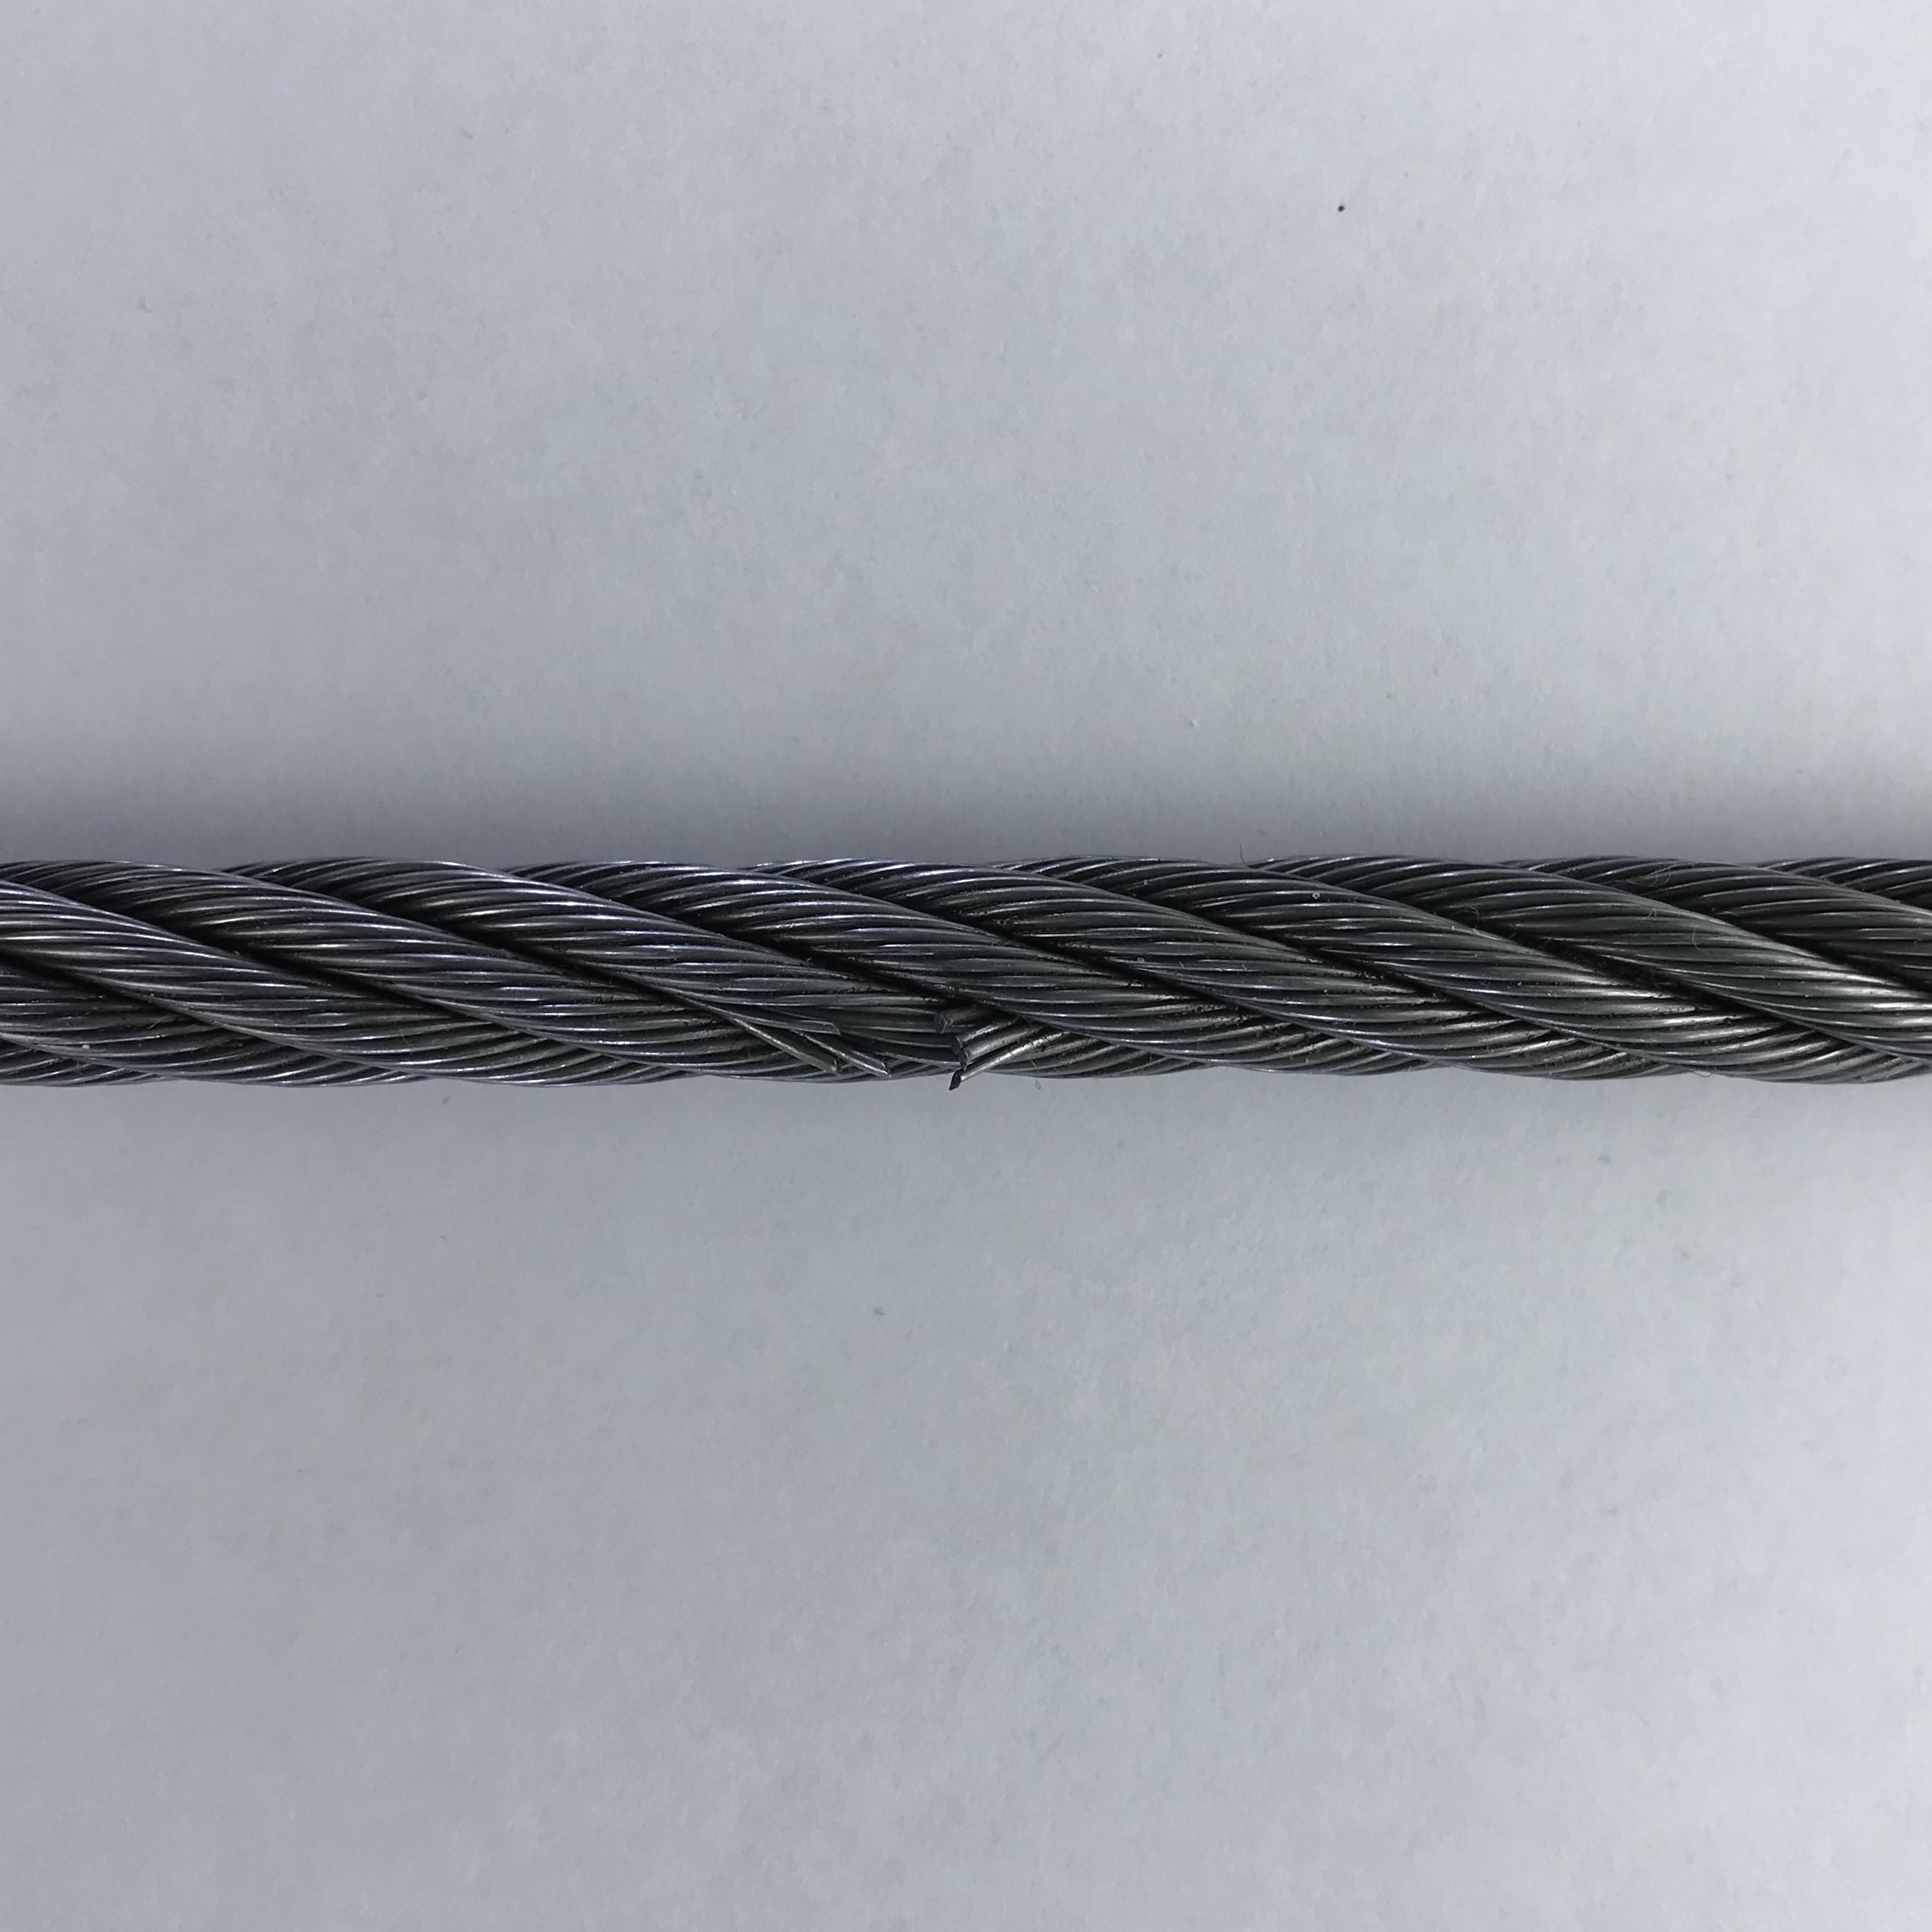break: (768, 1000, 1042, 1097)
